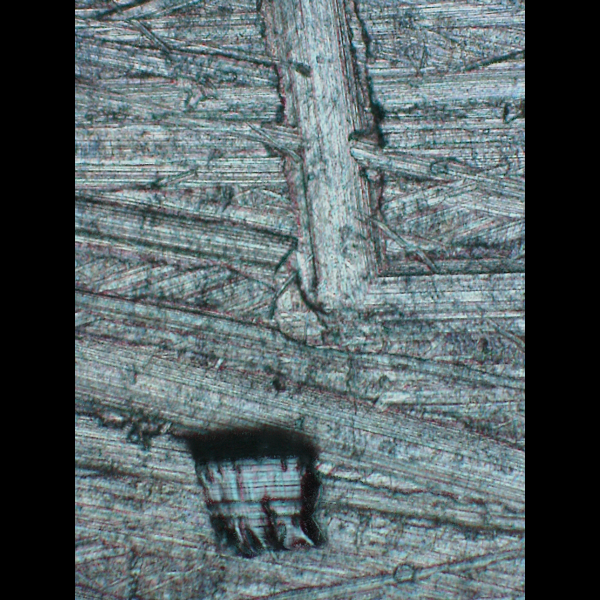d: (256, 0, 404, 343), (164, 400, 336, 558), (292, 246, 524, 333)
